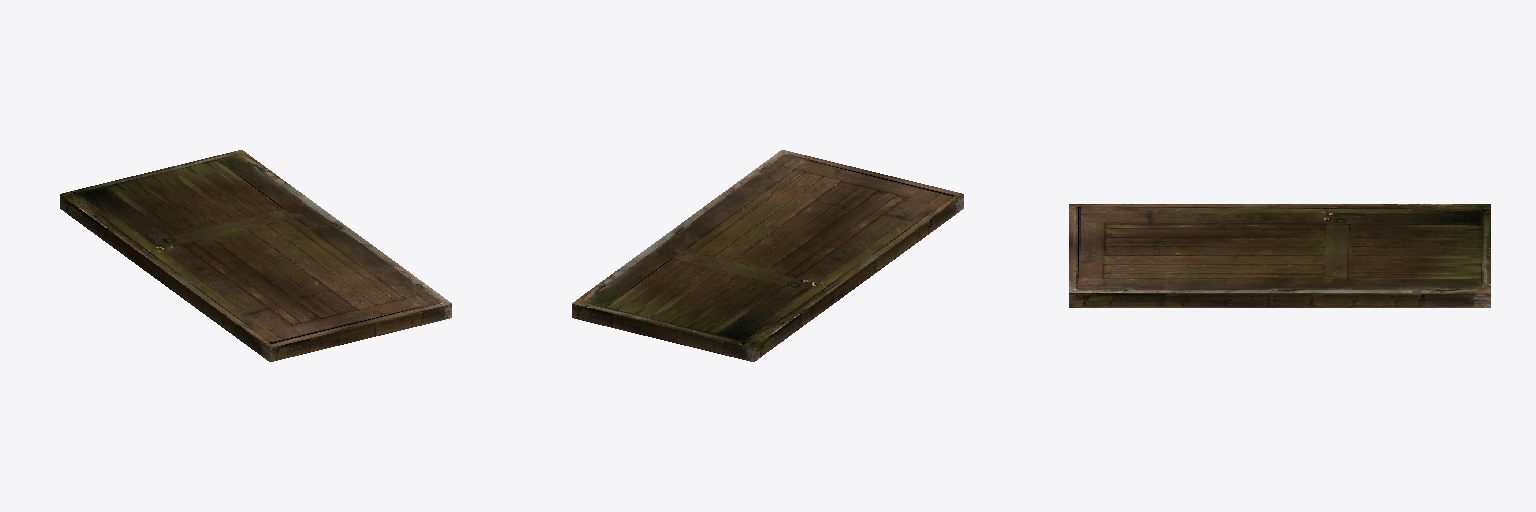
The picture shows the model from 3 angles: view 1: azimuth 30°, elevation 25°; view 2: azimuth 150°, elevation 25°; view 3: azimuth 270°, elevation 25°; orthographic projection.
Size of the model in its own units: 4 by 0.3 by 8.
Materials: 1 (1 with a texture image).